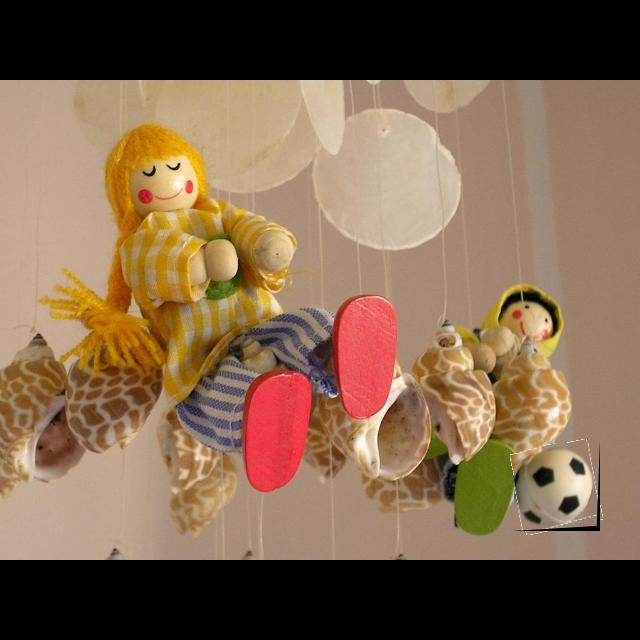Football: (514, 443, 600, 531)
